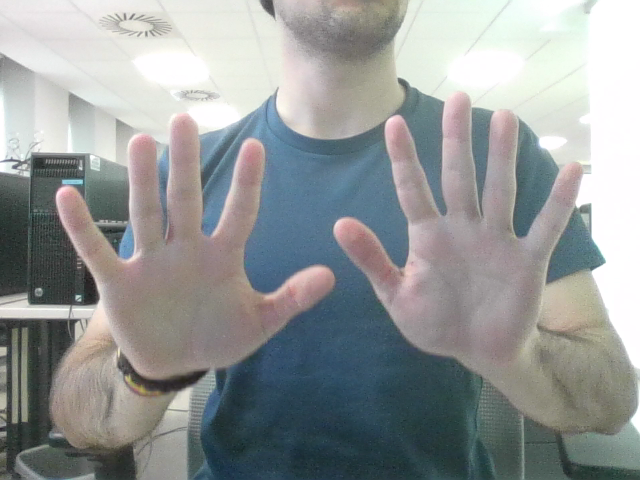Manos Arriba: (95, 117, 549, 336)
